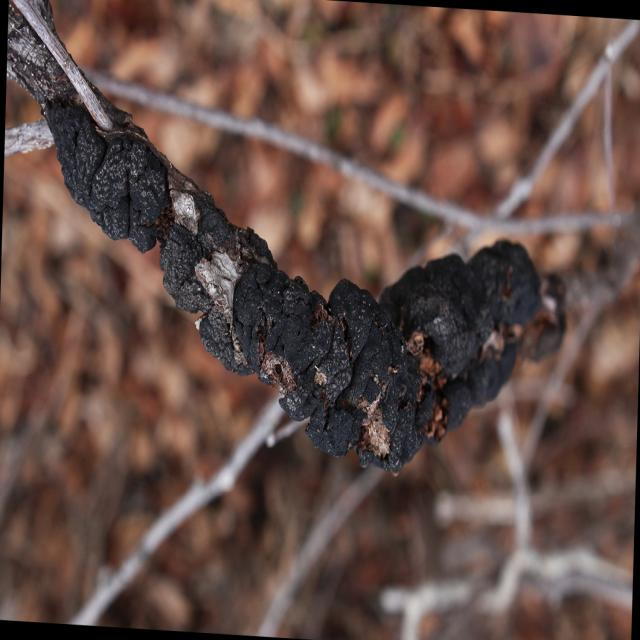Black_knot: (6, 1, 566, 477), (231, 259, 434, 475)
